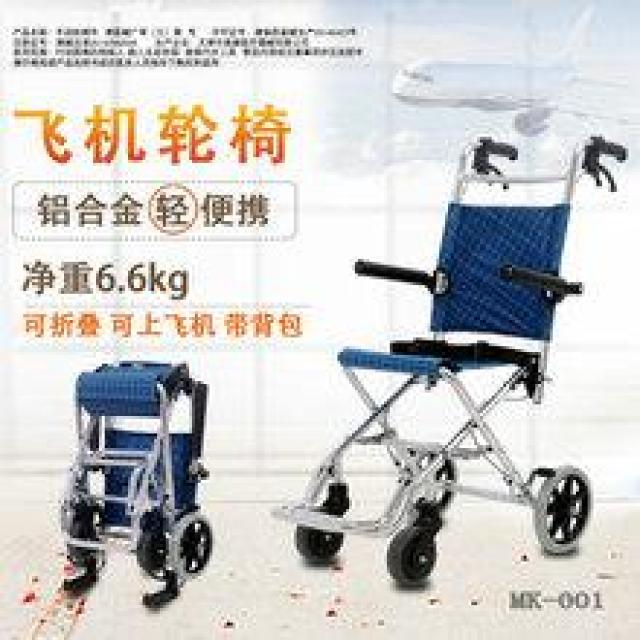wheelchairs: (268, 123, 640, 596)
